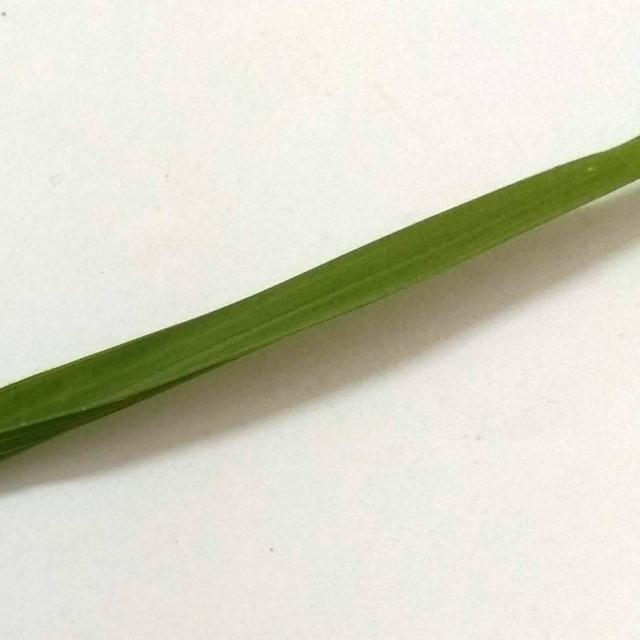Rice_Healthy: (0, 137, 640, 459)
